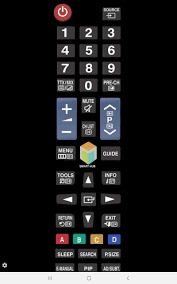remote control: (55, 0, 123, 273)
